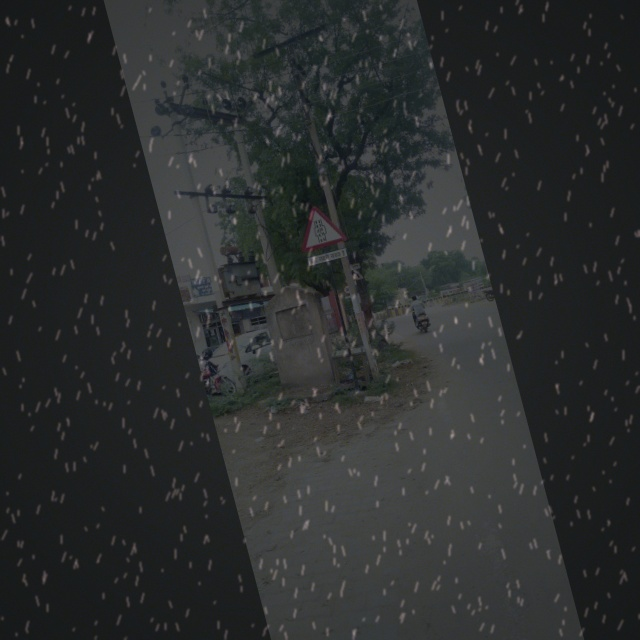Narrow_Road_Ahead: (292, 199, 346, 252)
